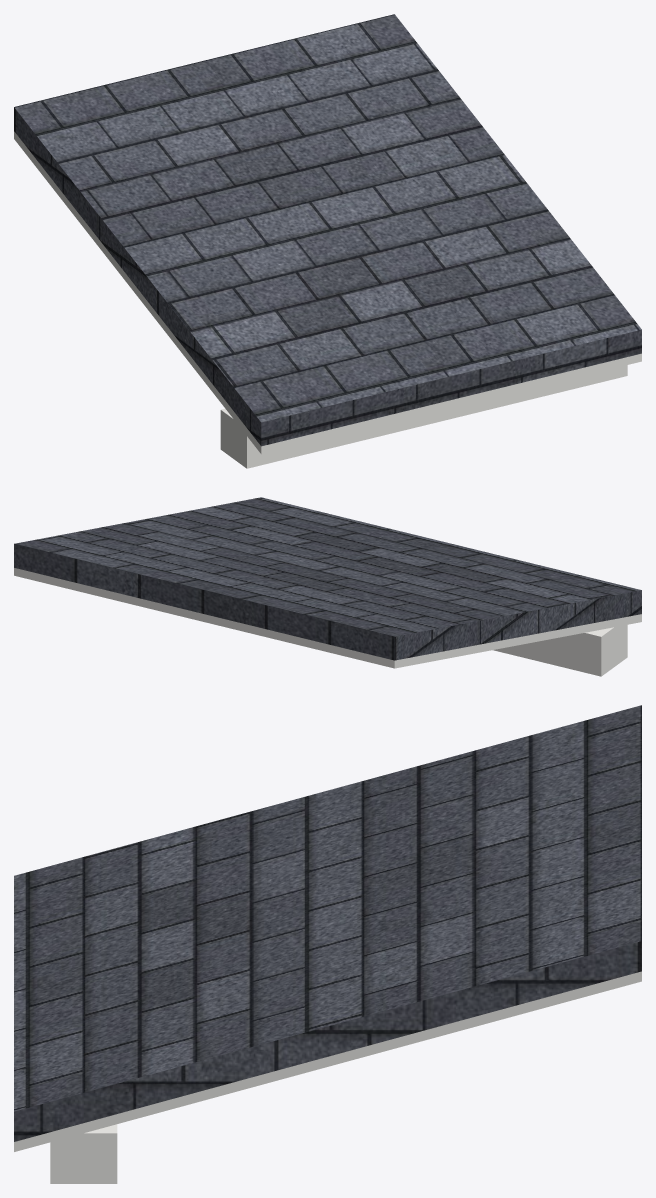
The model's file is porch_roof.glb.
The picture shows the model from 3 angles, top to bottom: view 1: azimuth 30°, elevation 25°; view 2: azimuth 150°, elevation 25°; view 3: azimuth 270°, elevation 25°; orthographic projection. The views are drawn at different scales.
Visible parts, largest first — view 1: porch_roof_shingles, porch_roof_trim; view 2: porch_roof_shingles, porch_roof_trim; view 3: porch_roof_shingles, porch_roof_trim.
Boxes of the visible parts, bbox=[...] form: porch_roof_shingles: bbox=[14, 14, 641, 446]; porch_roof_trim: bbox=[14, 131, 641, 468]; porch_roof_shingles: bbox=[14, 497, 641, 660]; porch_roof_trim: bbox=[14, 568, 641, 676]; porch_roof_shingles: bbox=[14, 705, 641, 1141]; porch_roof_trim: bbox=[14, 971, 641, 1183].
Size of the model in its own units: 2 by 0.96 by 2.25.
Materials: 2 (1 with a texture image).
